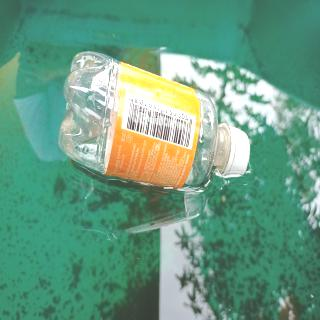bottle: (57, 48, 252, 194)
